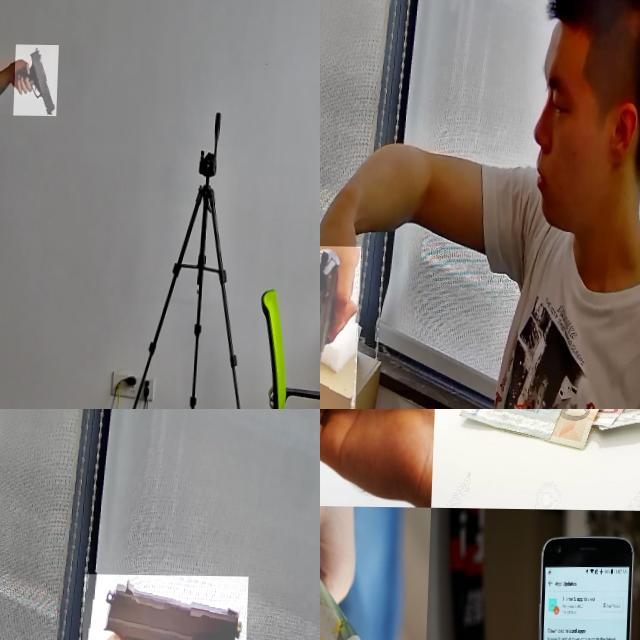gun-knife-thesis - v11 Yolov5 augmented: (82, 573, 251, 640), (320, 245, 364, 409), (15, 44, 60, 116)
